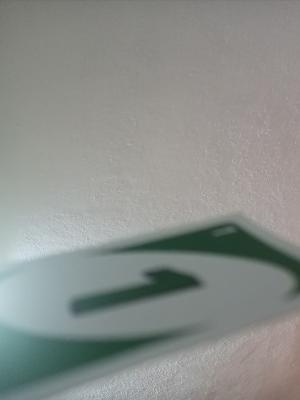green: (198, 222, 289, 272)
num_1: (57, 263, 219, 321)
